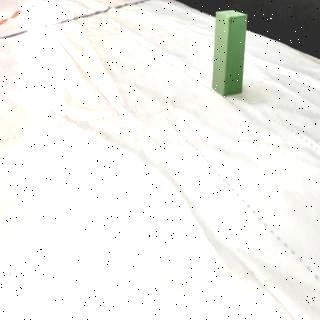greenbox: (212, 10, 248, 100)
